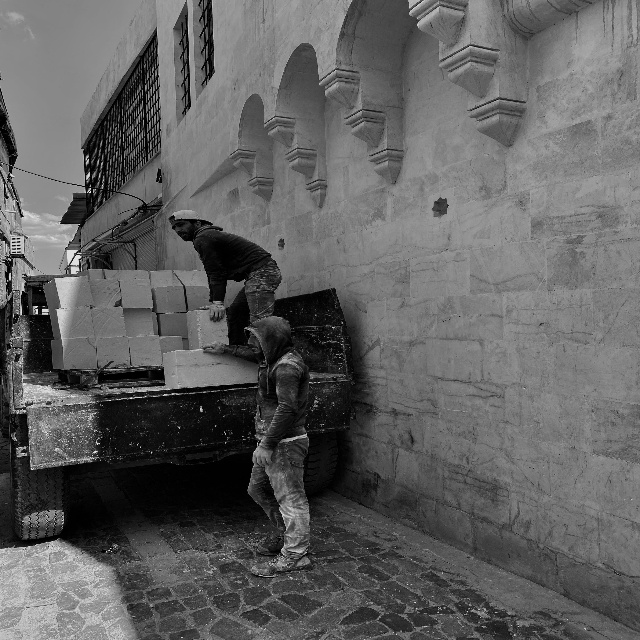Guantes: (199, 299, 226, 324), (251, 445, 274, 467)
Sin_guantes: (199, 340, 226, 355)
